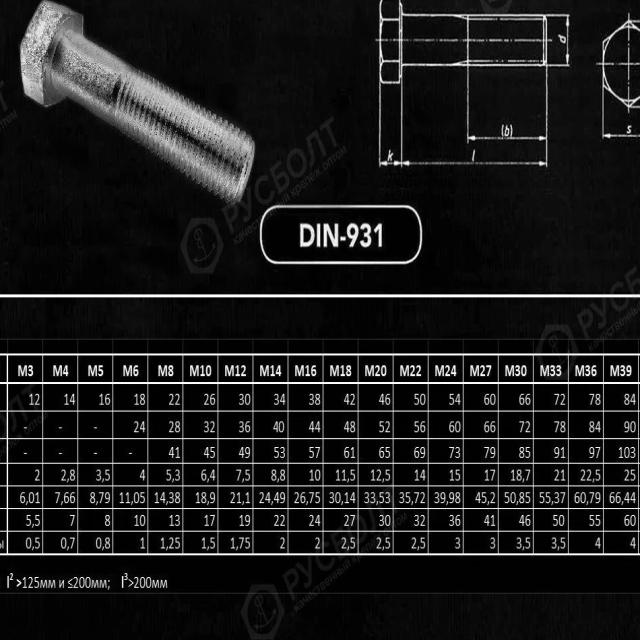marking_line: (377, 85, 551, 172), (399, 86, 550, 172), (464, 69, 553, 144), (376, 85, 404, 167), (547, 14, 571, 67), (603, 109, 640, 140)
